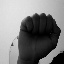a: (16, 12, 61, 59)
